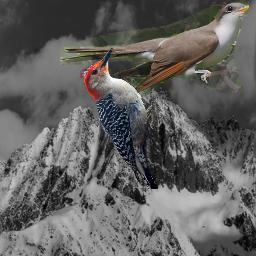Cuckoo: (60, 2, 249, 99)
Woodpecker: (80, 48, 158, 189)
